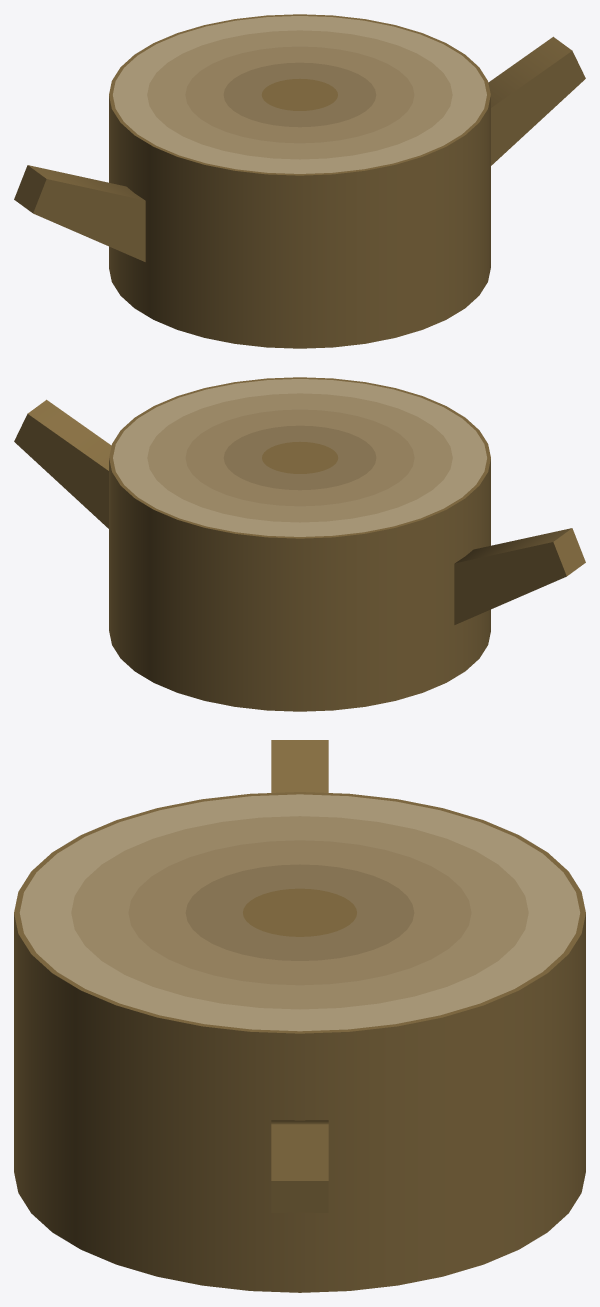
Rendered from q_shudun.obj.
3 renders of one model, top to bottom at view 1: azimuth 30°, elevation 25°; view 2: azimuth 150°, elevation 25°; view 3: azimuth 270°, elevation 25°, orthographic. The views are drawn at different scales.
Parts seen in each view (by area): view 1: 4huan_2, 4huan_1, 3huan, zhi, 4huan, 2huan, 1huan; view 2: 4huan_2, 4huan_1, 3huan, zhi, 4huan, 2huan, 1huan; view 3: 4huan_2, 4huan_1, 3huan, 4huan, 2huan, zhi, 1huan.
Part boxes in pixels (x1,y1,x2,y2): 4huan_2: (109,14,490,348); 4huan_1: (113,16,486,173); 3huan: (147,30,452,159); zhi: (14,36,585,261); 4huan: (185,46,414,143); 2huan: (223,62,376,127); 1huan: (261,78,337,110); 4huan_2: (109,377,490,711); 4huan_1: (113,379,486,536); 3huan: (147,393,452,522); zhi: (14,399,585,624); 4huan: (185,409,414,506); 2huan: (223,425,376,490); 1huan: (262,441,338,473); 4huan_2: (14,792,585,1292); 4huan_1: (19,794,580,1031); 3huan: (71,816,528,1009); 4huan: (128,840,471,985); 2huan: (185,864,414,960); zhi: (271,740,328,1212); 1huan: (243,888,356,936).
Size of the model in its own units: 16.71 by 5 by 10.
